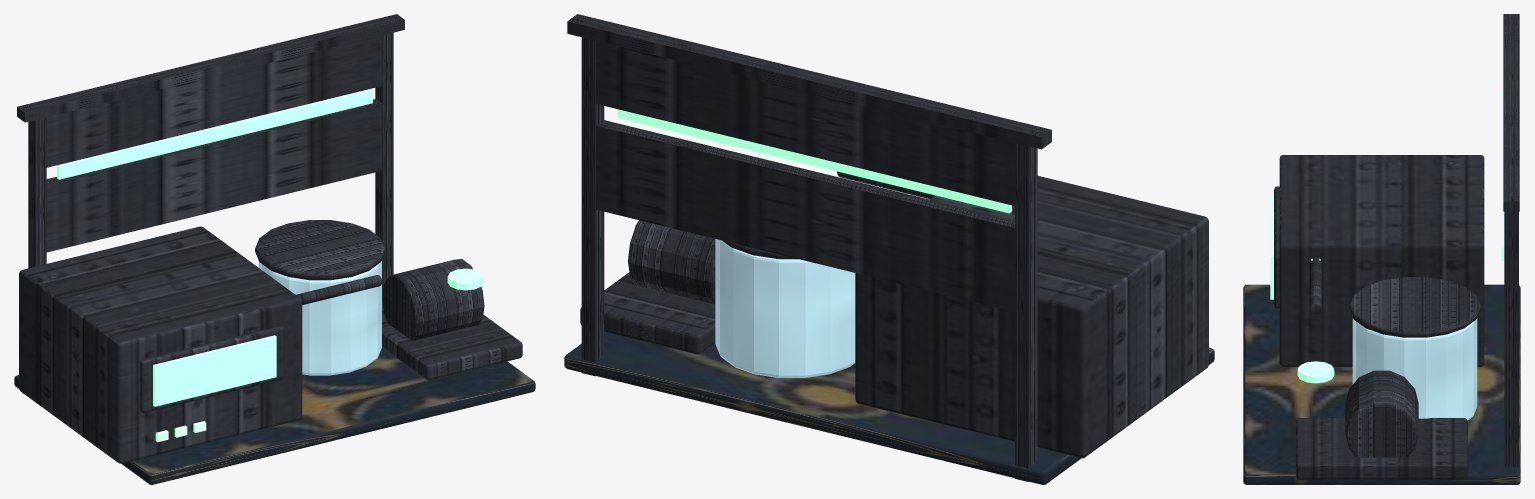
Rendered from ecosys_irrigation.glb.
3 renders of one model, left to right at view 1: azimuth 30°, elevation 25°; view 2: azimuth 150°, elevation 25°; view 3: azimuth 270°, elevation 25°, orthographic. The views are drawn at different scales.
Parts seen in each view (by area): view 1: sight_shell, cabinet, toe, tank, tankcap, pump, screen, pumpbase, sightglow, bezel, arm, gauge; view 2: sight_shell, cabinet, toe, tank, pumpbase, pump, sightglow; view 3: cabinet, toe, tank, pumpbase, sight_shell, tankcap, pump, bezel, gauge, arm, sightglow, screen.
Boxes of the visible parts, left/top/right/bottom form: sight_shell: left=17, top=14, right=404, bottom=292; cabinet: left=19, top=226, right=302, bottom=463; toe: left=14, top=292, right=535, bottom=484; tank: left=258, top=260, right=381, bottom=375; tankcap: left=255, top=220, right=385, bottom=280; pump: left=382, top=259, right=484, bottom=340; screen: left=153, top=335, right=276, bottom=406; pumpbase: left=382, top=299, right=522, bottom=380; sightglow: left=57, top=89, right=372, bottom=179; bezel: left=139, top=326, right=284, bottom=412; arm: left=296, top=275, right=382, bottom=304; gauge: left=447, top=268, right=483, bottom=290; sight_shell: left=567, top=14, right=1051, bottom=481; cabinet: left=855, top=176, right=1208, bottom=458; toe: left=564, top=332, right=1214, bottom=484; tank: left=715, top=239, right=855, bottom=377; pumpbase: left=580, top=272, right=715, bottom=354; pump: left=628, top=220, right=715, bottom=304; sightglow: left=617, top=109, right=1011, bottom=213; cabinet: left=1279, top=155, right=1484, bottom=366; toe: left=1243, top=284, right=1520, bottom=484; tank: left=1352, top=318, right=1477, bottom=420; pumpbase: left=1296, top=418, right=1467, bottom=479; sight_shell: left=1503, top=14, right=1519, bottom=467; tankcap: left=1349, top=277, right=1480, bottom=337; pump: left=1345, top=370, right=1418, bottom=457; bezel: left=1274, top=186, right=1279, bottom=308; gauge: left=1297, top=361, right=1334, bottom=383; arm: left=1310, top=257, right=1321, bottom=313; sightglow: left=1501, top=92, right=1504, bottom=260; screen: left=1270, top=196, right=1273, bottom=297.
Size of the model in its own units: 2.63 by 1.7 by 1.51.
Materials: 7 (4 with a texture image).
